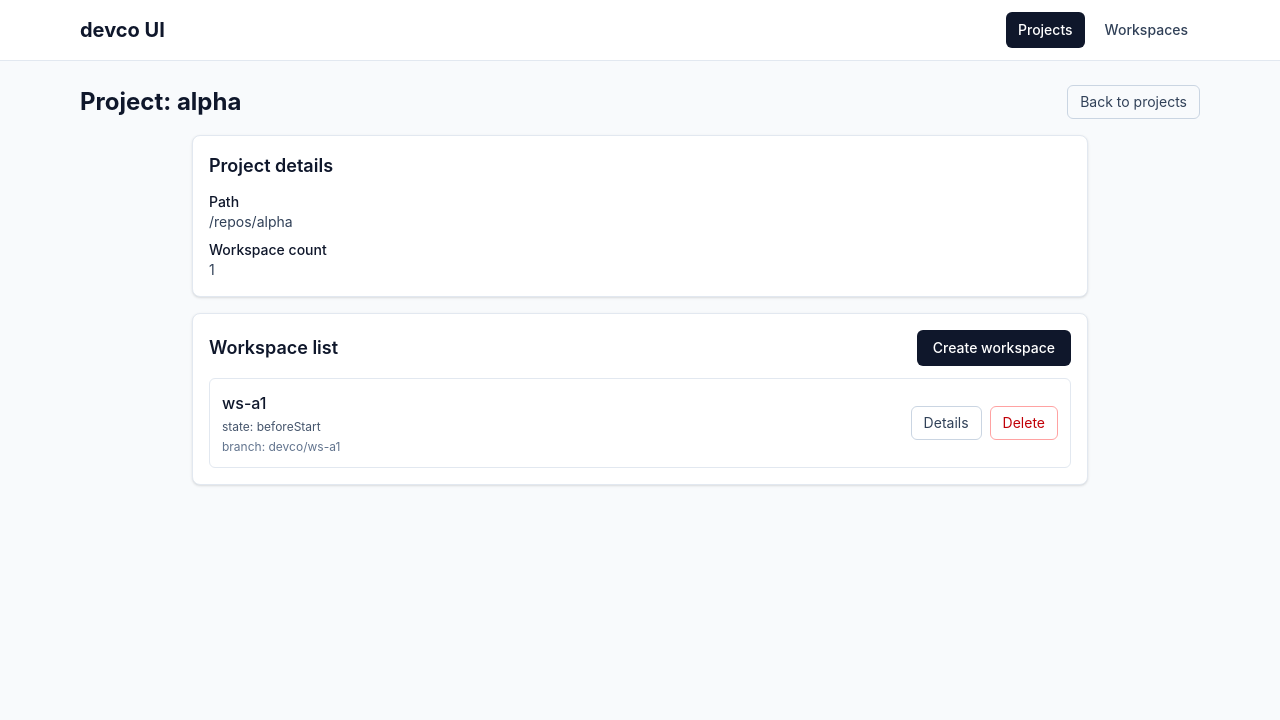
Test: App browser flows › creates and deletes a workspace in project detail
The image size is (1280, 720).
Expected: the heading "Project: alpha" is shown, [80,86,241,118]
Click the button "Create workspace" at (994, 348), box [917,330,1071,366]
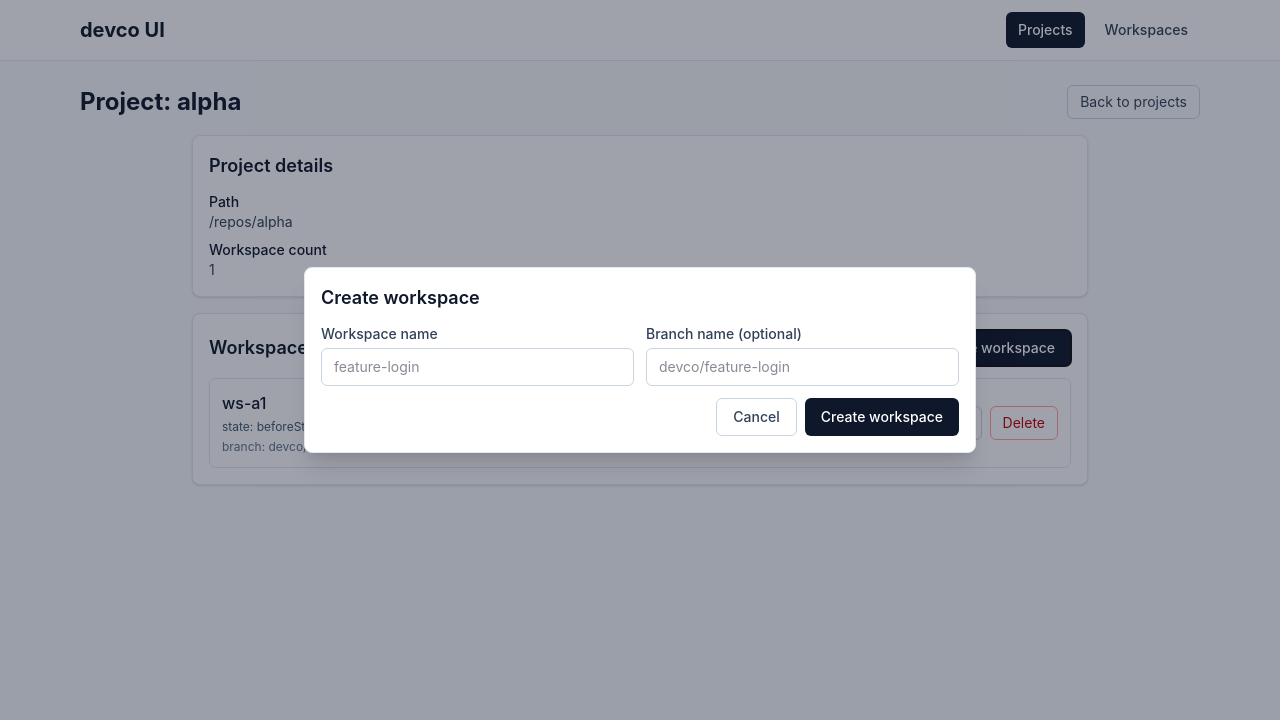
Type "ws-new" into the field labelled "Workspace name" at (478, 367), box [321,348,634,386]
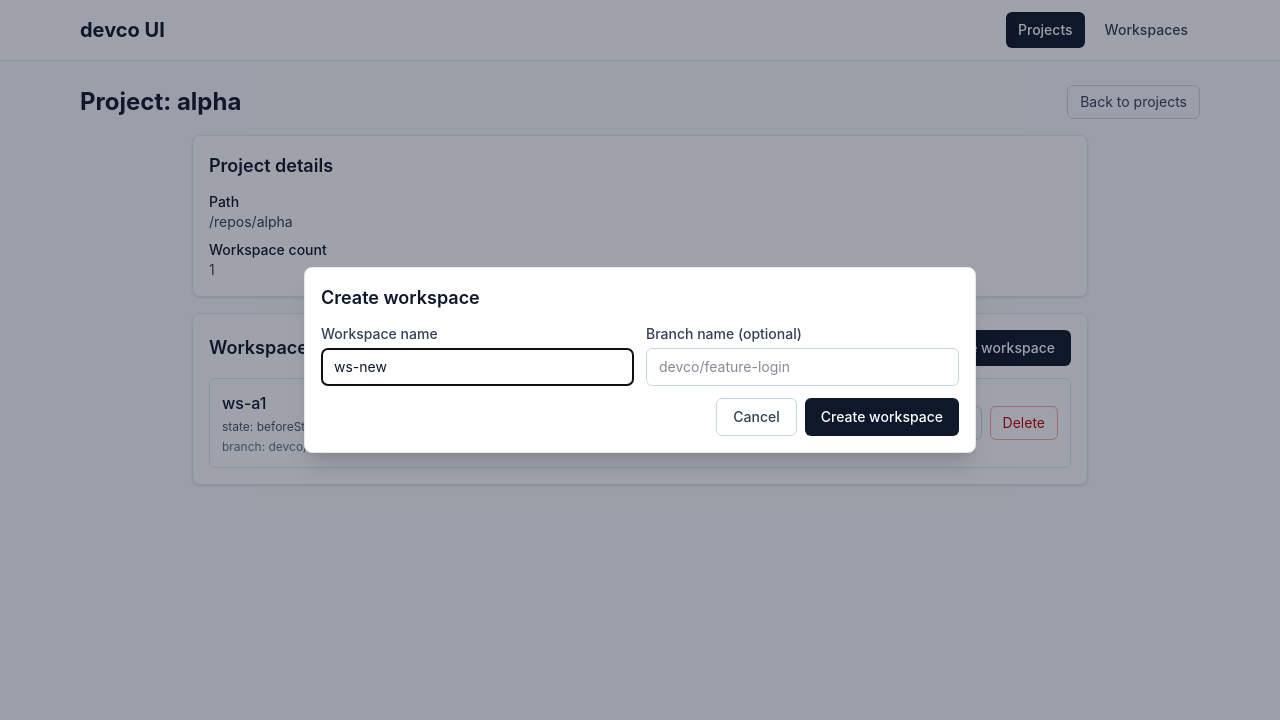
Click the button "Create workspace" at (882, 417), box [805,398,959,436]
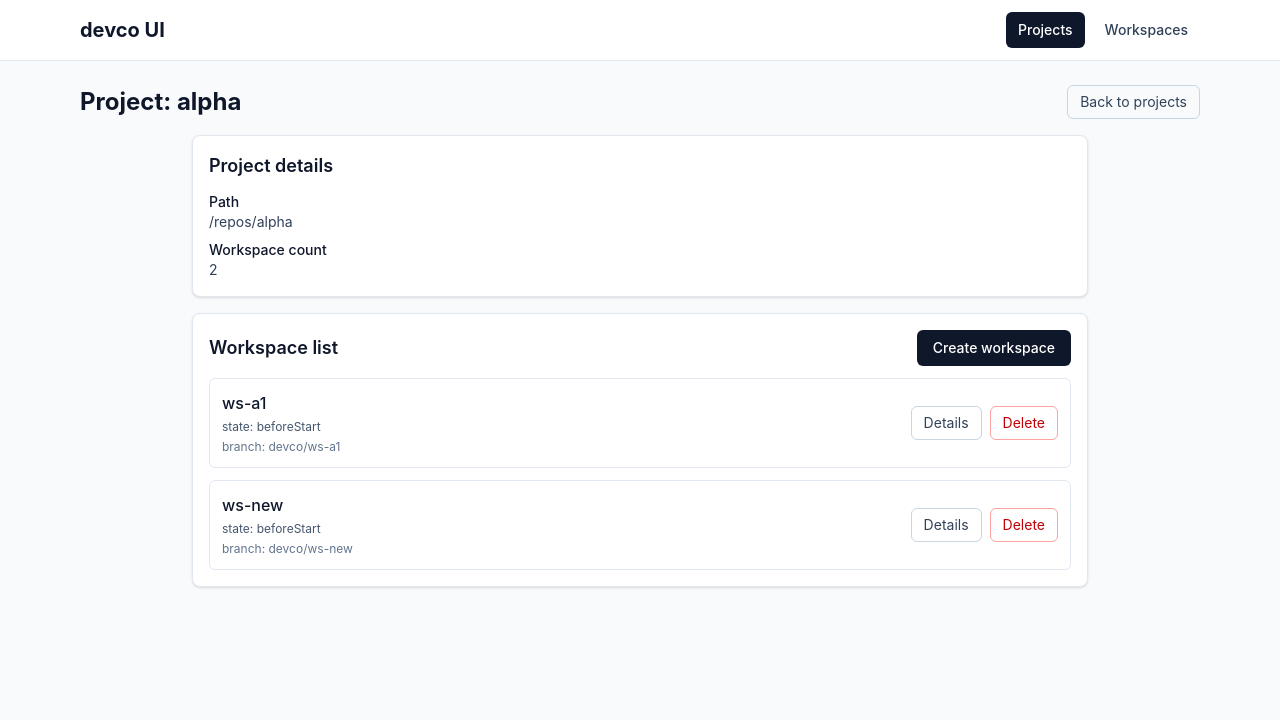
Now the text "ws-new" is shown, box [222,495,283,515]
Click the button with aria-label "Delete ws-new" at (1024, 525), box [990,508,1058,542]
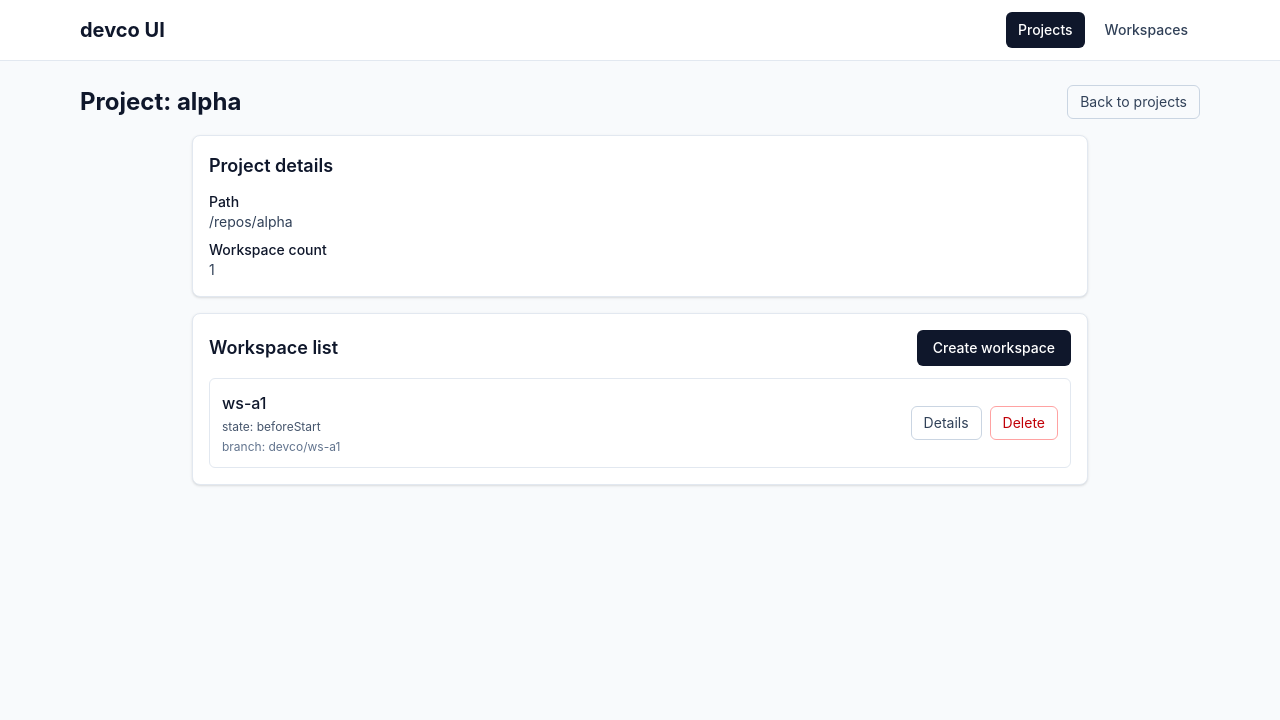
Now the text "ws-new" is gone
